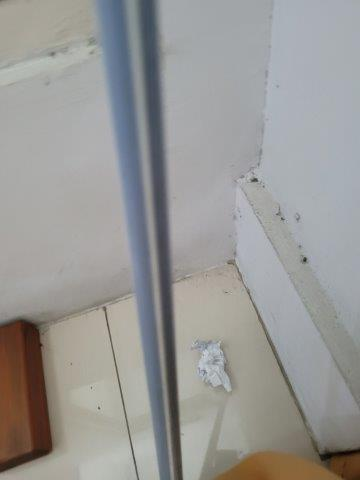kertas: (187, 339, 236, 392)
